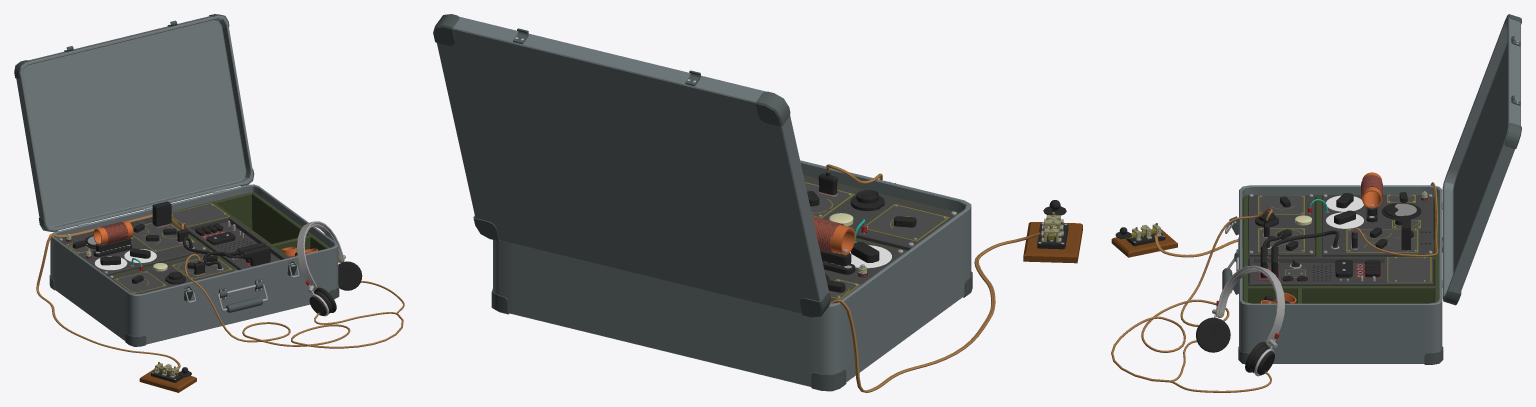
3 views of the same model, side by side, from view 1: azimuth 30°, elevation 25°; view 2: azimuth 150°, elevation 25°; view 3: azimuth 270°, elevation 25° (orthographic). The views are drawn at different scales.
Visible parts, largest first — view 1: polySurface3, pCube1, pCube3, pCube74, pCube63, pCylinder223, pCylinder220, pCube75, pCube14, pCube7, pCylinder196, pCube13 (+7 smaller); view 2: polySurface3, pCube1, pCube75, pCube13, pCylinder220, pCube77, polySurface5, pCube74, pCylinder61, pCube50, polySurface14, polySurface7 (+2 smaller); view 3: pCube1, polySurface3, pCube3, pCube63, pCube74, pCube75, pCylinder223, pCube7, pCube14, pCylinder213, pCylinder196, pCylinder220 (+5 smaller).
Part boxes in pixels (<box>): polySurface3: <box>16,15,253,231</box>; pCube1: <box>50,184,338,344</box>; pCube3: <box>57,192,330,276</box>; pCube74: <box>58,217,207,275</box>; pCube63: <box>171,202,287,269</box>; pCylinder223: <box>184,254,403,348</box>; pCylinder220: <box>36,214,185,369</box>; pCube75: <box>109,254,235,294</box>; pCube14: <box>171,203,229,227</box>; pCube7: <box>132,222,195,251</box>; pCylinder196: <box>297,221,344,290</box>; pCube13: <box>114,271,166,293</box>; polySurface3: <box>437,16,828,313</box>; pCube1: <box>493,160,971,386</box>; pCube75: <box>803,176,958,250</box>; pCube13: <box>866,204,949,241</box>; pCylinder220: <box>830,232,1039,392</box>; pCube77: <box>1023,222,1082,263</box>; polySurface5: <box>755,91,790,126</box>; pCube74: <box>824,239,905,301</box>; pCylinder61: <box>814,221,855,254</box>; pCube50: <box>805,182,854,218</box>; polySurface14: <box>811,369,846,391</box>; polySurface7: <box>433,14,459,45</box>; pCube1: <box>1239,185,1442,363</box>; polySurface3: <box>1442,15,1520,300</box>; pCube3: <box>1242,195,1438,303</box>; pCube63: <box>1248,257,1433,285</box>; pCube74: <box>1322,195,1433,256</box>; pCube75: <box>1248,195,1314,256</box>; pCylinder223: <box>1111,208,1272,382</box>; pCube7: <box>1346,229,1418,252</box>; pCube14: <box>1387,257,1431,282</box>; pCylinder213: <box>1196,317,1230,352</box>; pCylinder196: <box>1216,265,1285,345</box>; pCylinder220: <box>1154,182,1437,257</box>.
Bounding box in the file's own units: 0.0859 × 0.059 × 0.0911.
